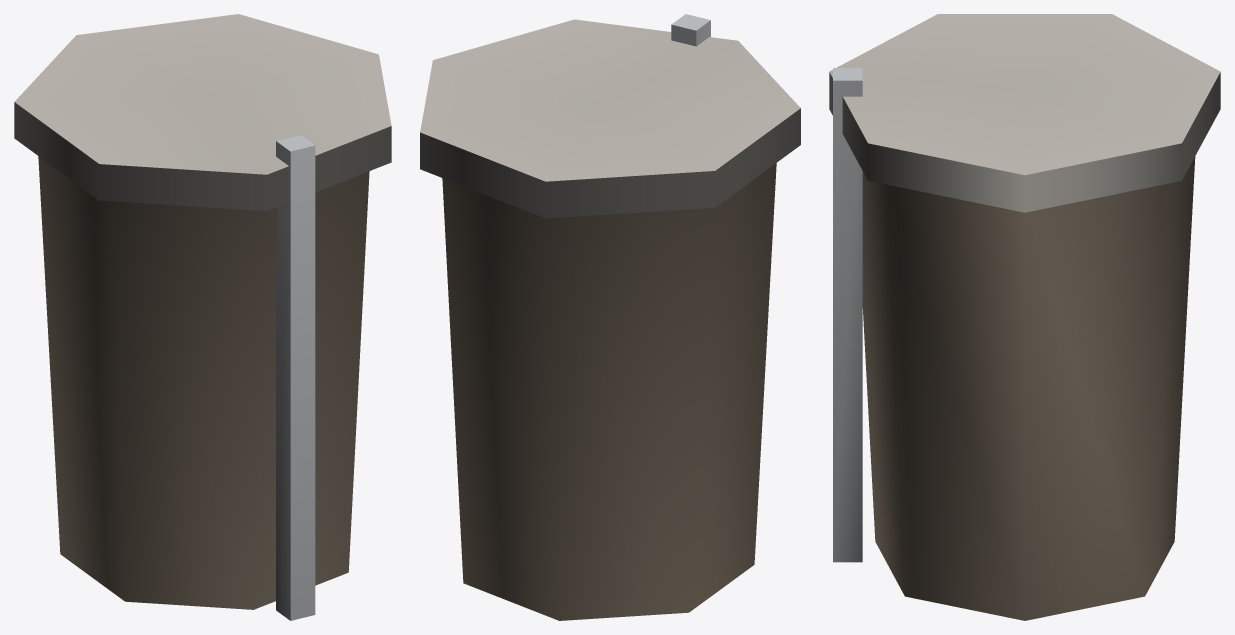
File: litter_bin_park.lod1.glb
The picture shows the model from 3 angles, left to right: view 1: azimuth 30°, elevation 25°; view 2: azimuth 150°, elevation 25°; view 3: azimuth 270°, elevation 25°; orthographic projection. The views are drawn at different scales.
Parts seen in each view (by area): view 1: props_litter_bin_park.lod1; view 2: props_litter_bin_park.lod1; view 3: props_litter_bin_park.lod1.
Part boxes in pixels (x1=…): props_litter_bin_park.lod1: x1=14, y1=14, x2=391, y2=620; props_litter_bin_park.lod1: x1=420, y1=14, x2=800, y2=620; props_litter_bin_park.lod1: x1=829, y1=14, x2=1220, y2=620.
Size of the model in its own units: 0.6463 by 0.9 by 0.663.
